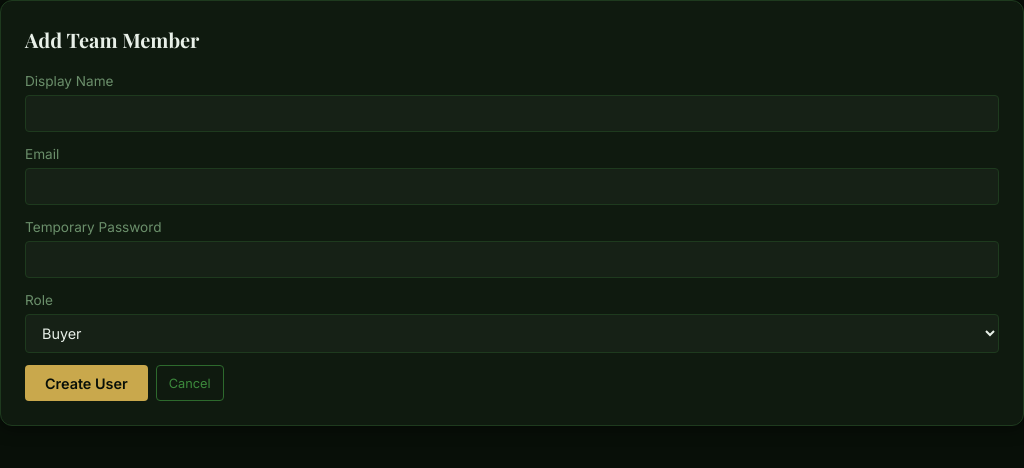
CreateUserForm › shows error for short password
Type "Test User" into the field labelled "Display Name". click: (512, 114)
box: [25,95,999,132]
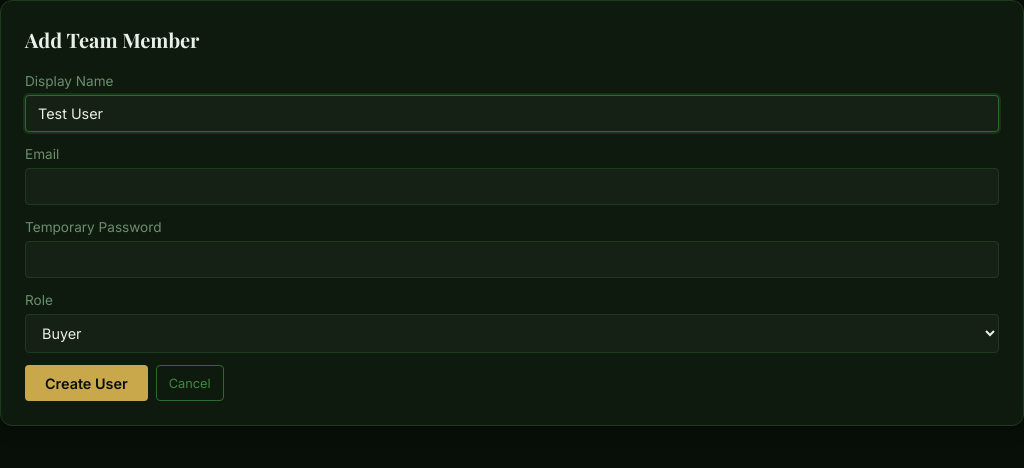
Type "test@test.com" into the field labelled "Email". click: (512, 187)
box: [25,168,999,205]
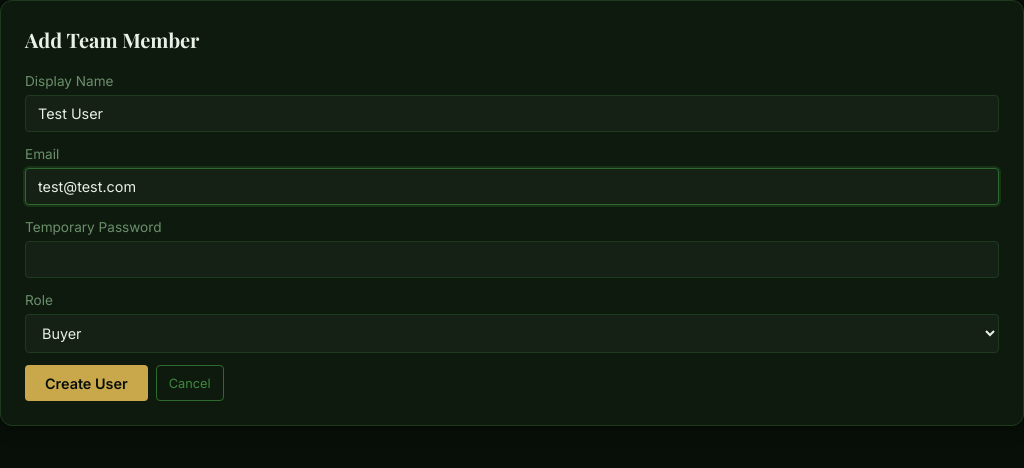
Type "short" into the password field labelled "Temporary Password". click: (512, 260)
box: [25,241,999,278]
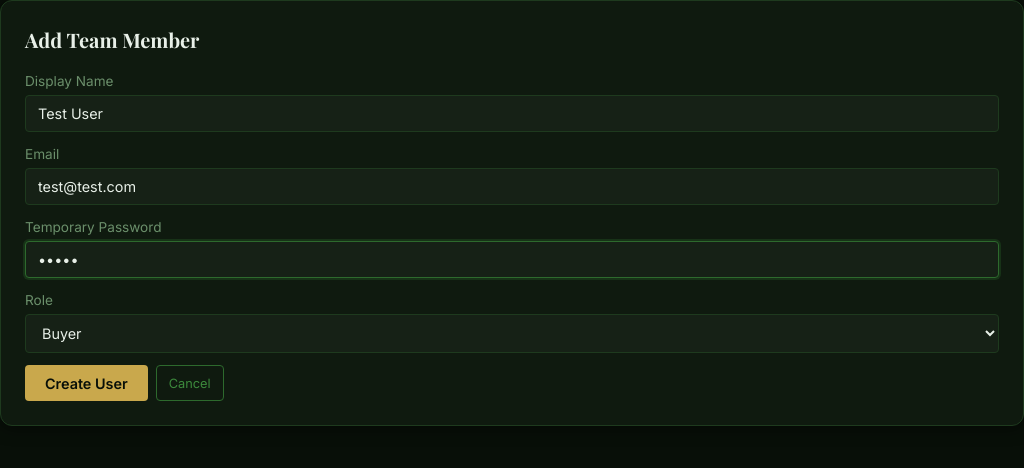
Click the button "Create User". click: (86, 383)
box: [25,365,148,401]
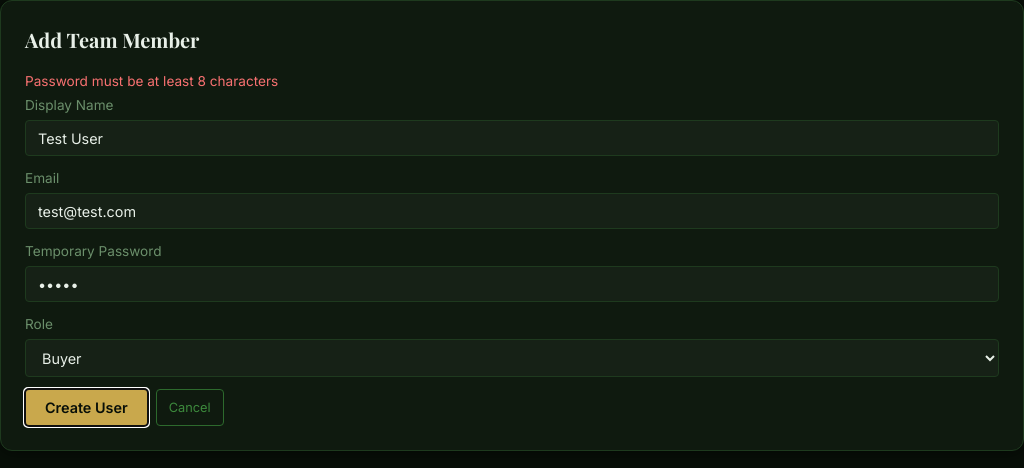
Now the text "Password must be at least 8 characters" is shown, box [25,73,278,89]
